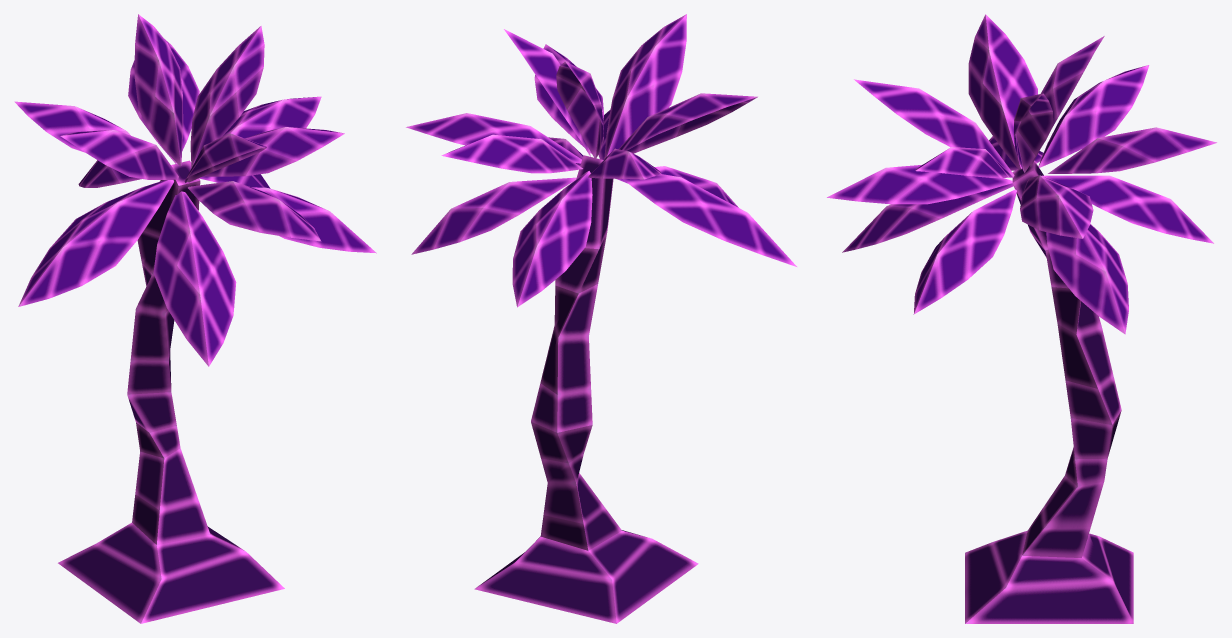
File: PalmTree.fbx
3 renders of one model, left to right at view 1: azimuth 30°, elevation 25°; view 2: azimuth 150°, elevation 25°; view 3: azimuth 270°, elevation 25°, orthographic. The views are drawn at different scales.
Visible parts, largest first — view 1: Tree1, TreeLeaf14, TreeLeaf12, TreeLeaf2, TreeLeaf9, TreeLeaf4, TreeLeaf11, TreeLeaf8, TreeLeaf6, TreeLeaf3, TreeLeaf5, TreeLeaf15 (+3 smaller); view 2: Tree1, TreeLeaf10, TreeLeaf15, TreeLeaf12, TreeLeaf7, TreeLeaf11, TreeLeaf13, TreeLeaf3, TreeLeaf2, TreeLeaf9, TreeLeaf5, TreeLeaf8 (+1 smaller); view 3: Tree1, TreeLeaf11, TreeLeaf6, TreeLeaf7, TreeLeaf5, TreeLeaf10, TreeLeaf4, TreeLeaf13, TreeLeaf15, TreeLeaf3, TreeLeaf14, TreeLeaf9 (+2 smaller).
Part boxes in pixels (bbox=[...]): Tree1: bbox=[58, 160, 284, 623]; TreeLeaf14: bbox=[153, 191, 236, 366]; TreeLeaf12: bbox=[18, 180, 173, 306]; TreeLeaf2: bbox=[134, 14, 183, 165]; TreeLeaf9: bbox=[190, 26, 264, 168]; TreeLeaf4: bbox=[188, 181, 321, 241]; TreeLeaf11: bbox=[60, 130, 178, 179]; TreeLeaf8: bbox=[203, 127, 344, 176]; TreeLeaf6: bbox=[252, 187, 376, 253]; TreeLeaf3: bbox=[222, 96, 321, 138]; TreeLeaf5: bbox=[14, 101, 130, 152]; TreeLeaf15: bbox=[184, 133, 266, 182]; Tree1: bbox=[474, 155, 698, 623]; TreeLeaf10: bbox=[512, 171, 592, 307]; TreeLeaf15: bbox=[604, 14, 686, 159]; TreeLeaf12: bbox=[622, 174, 796, 266]; TreeLeaf7: bbox=[411, 177, 576, 254]; TreeLeaf11: bbox=[618, 93, 757, 153]; TreeLeaf13: bbox=[441, 134, 582, 173]; TreeLeaf3: bbox=[406, 113, 581, 163]; TreeLeaf2: bbox=[556, 61, 603, 157]; TreeLeaf9: bbox=[504, 29, 590, 156]; TreeLeaf5: bbox=[588, 148, 661, 179]; TreeLeaf8: bbox=[534, 44, 603, 153]; Tree1: bbox=[965, 161, 1133, 623]; TreeLeaf11: bbox=[968, 14, 1037, 169]; TreeLeaf6: bbox=[913, 189, 1016, 314]; TreeLeaf7: bbox=[1046, 224, 1128, 334]; TreeLeaf5: bbox=[1038, 65, 1149, 167]; TreeLeaf10: bbox=[1042, 175, 1213, 243]; TreeLeaf4: bbox=[827, 164, 1012, 204]; TreeLeaf13: bbox=[1048, 127, 1216, 173]; TreeLeaf15: bbox=[854, 79, 1014, 176]; TreeLeaf3: bbox=[1020, 175, 1093, 238]; TreeLeaf14: bbox=[842, 183, 1013, 252]; TreeLeaf9: bbox=[1014, 93, 1053, 172].
Bounding box in the file's own units: 131 × 194 × 125.
